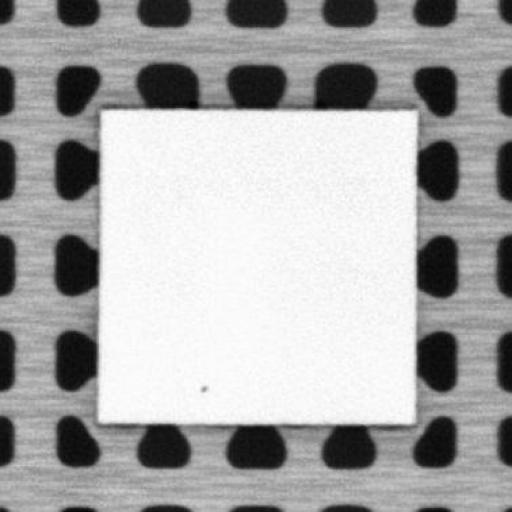DIE_INK: (195, 381, 209, 393)
